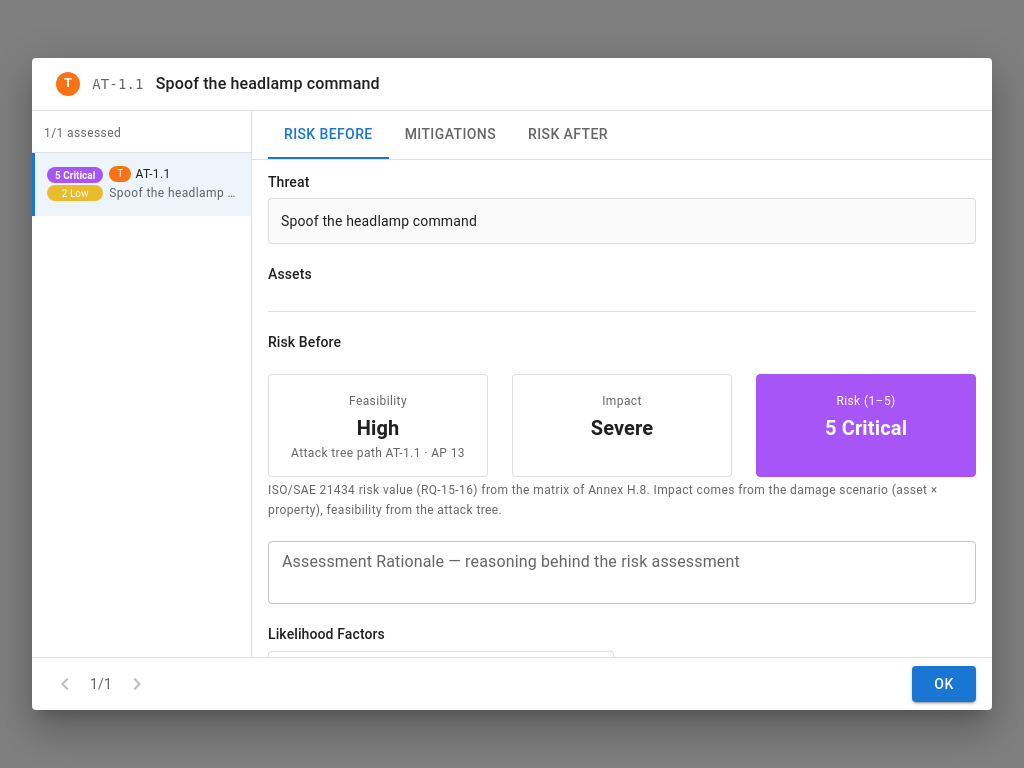
it: risk dialog — ISO Risk Before / After › after, factor breakdown: five rated factors give the residual
Click the tab "Risk After".
click(568, 135)  # box left=512, top=111, right=624, bottom=159
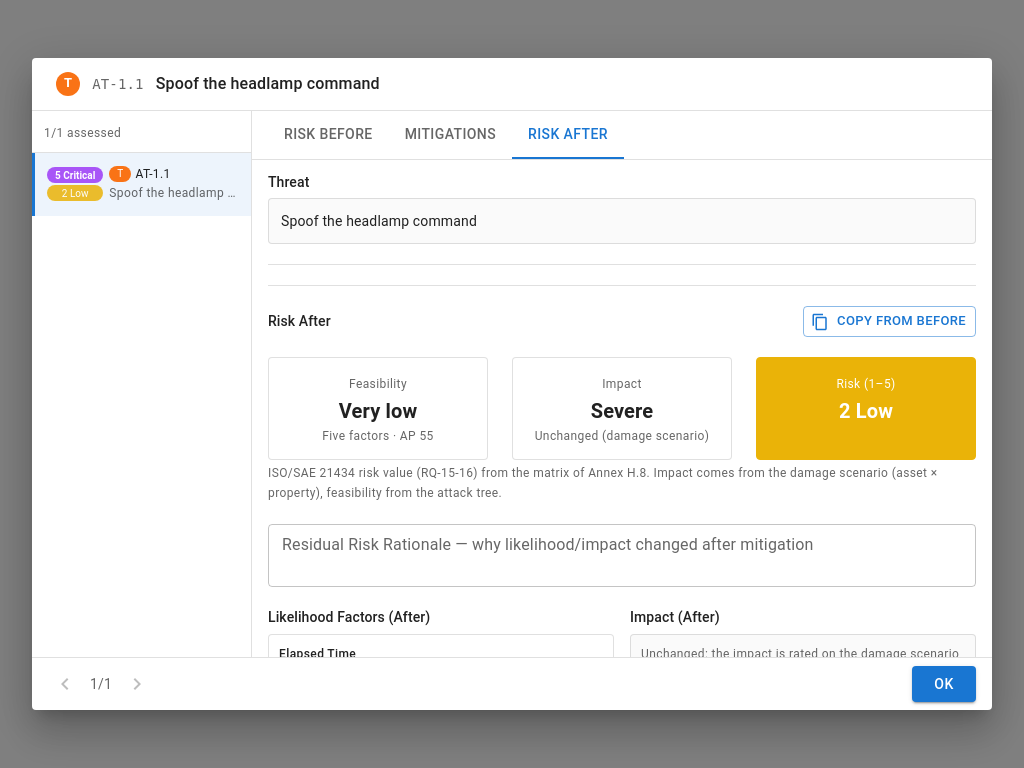
Now the text with test id "iso-risk-panel-after-feasibility-note" reads "Five factors · AP 55", box left=322, top=429, right=434, bottom=443
